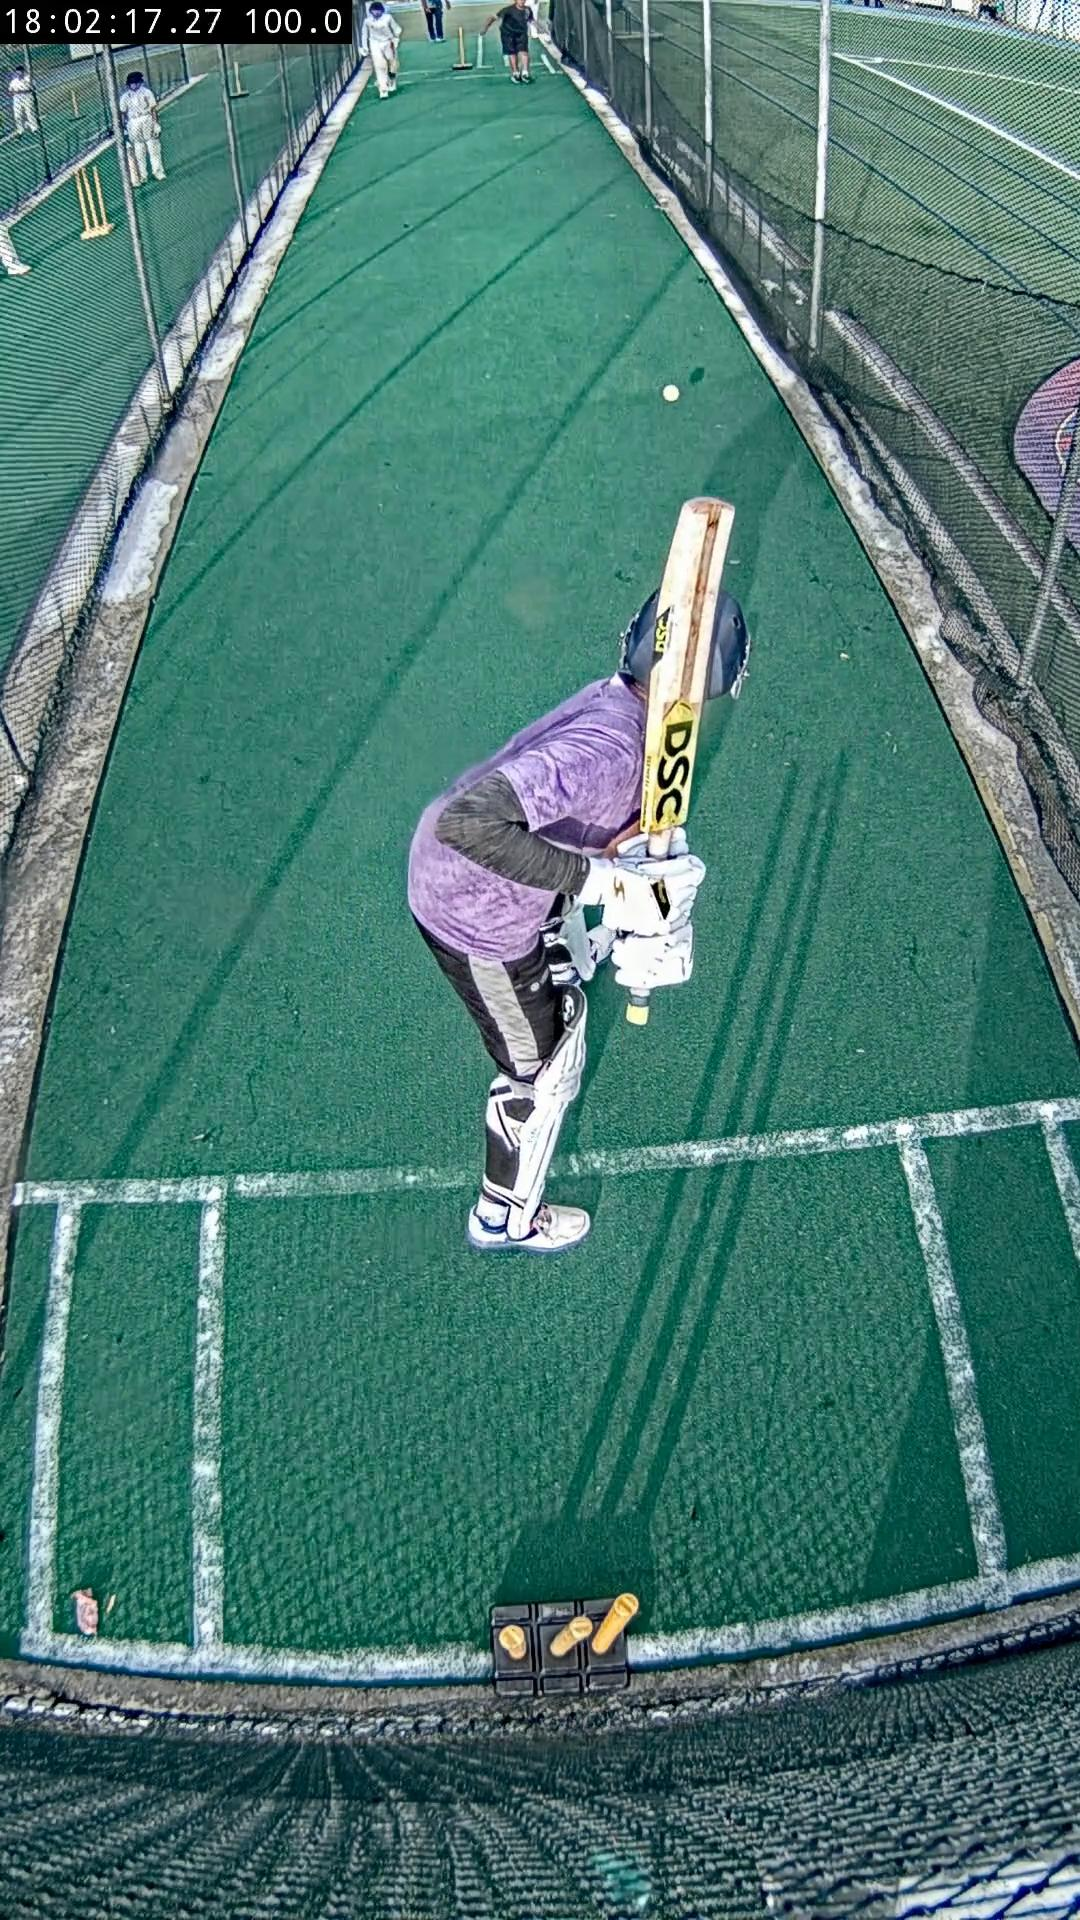ball: (661, 382, 679, 401)
bat: (641, 498, 735, 858)
gloves: (578, 828, 705, 990)
helmet: (705, 592, 750, 696), (618, 592, 658, 686)
pads: (510, 986, 588, 1236)
stumps: (492, 1594, 641, 1693)
